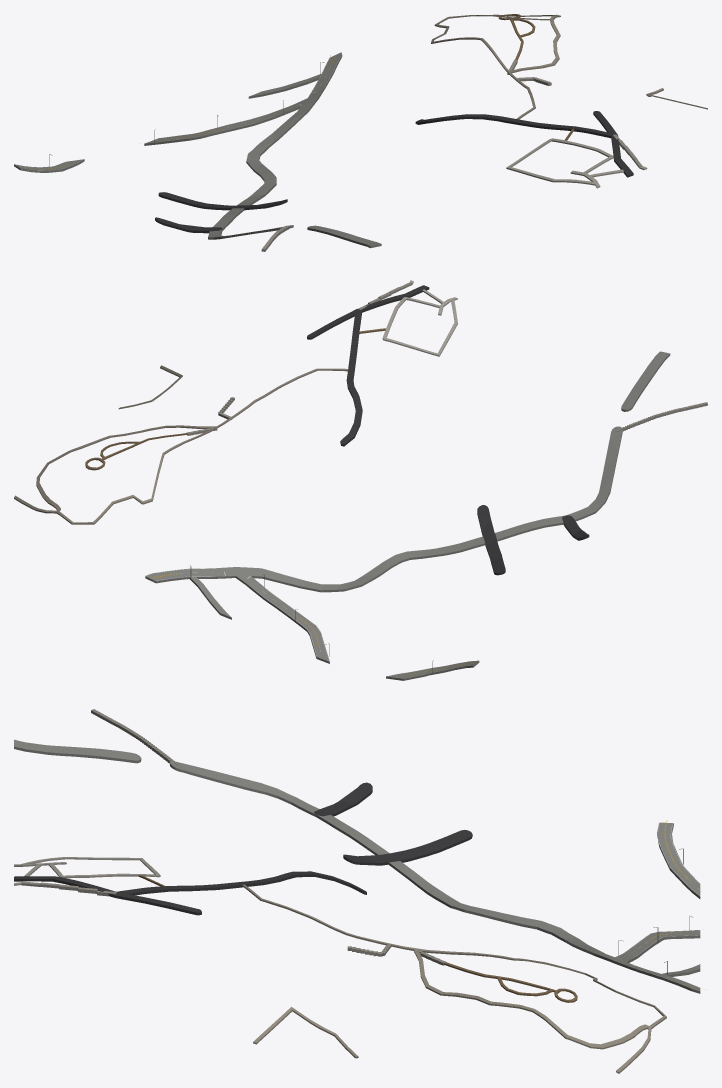
3 renders of one model, top to bottom at view 1: azimuth 30°, elevation 25°; view 2: azimuth 150°, elevation 25°; view 3: azimuth 270°, elevation 25°, orthographic. The views are drawn at different scales.
Bounding box in the file's own units: 295 × 78.88 × 295.
